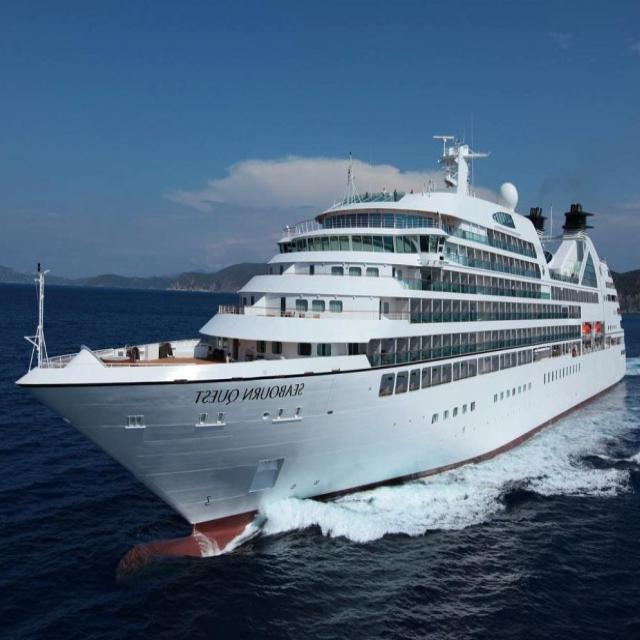passenger ship: (8, 123, 630, 554)
